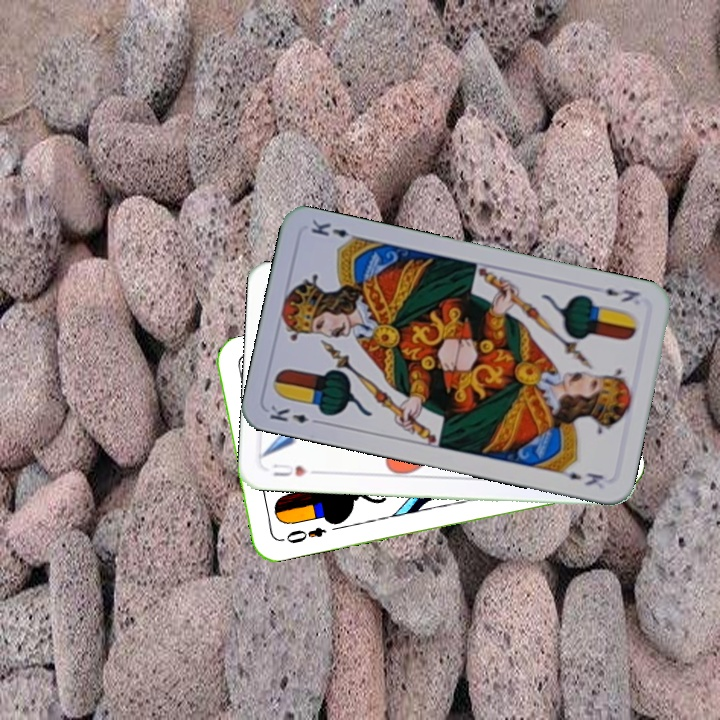EK: (265, 401, 324, 427), (601, 284, 643, 305)
EO: (282, 523, 329, 547)
HU: (269, 459, 310, 479)
